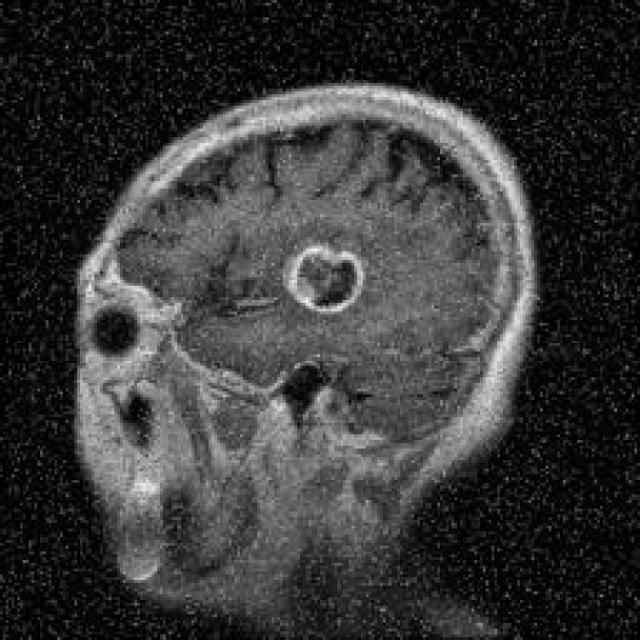glioma_tumor: (276, 230, 375, 324)
